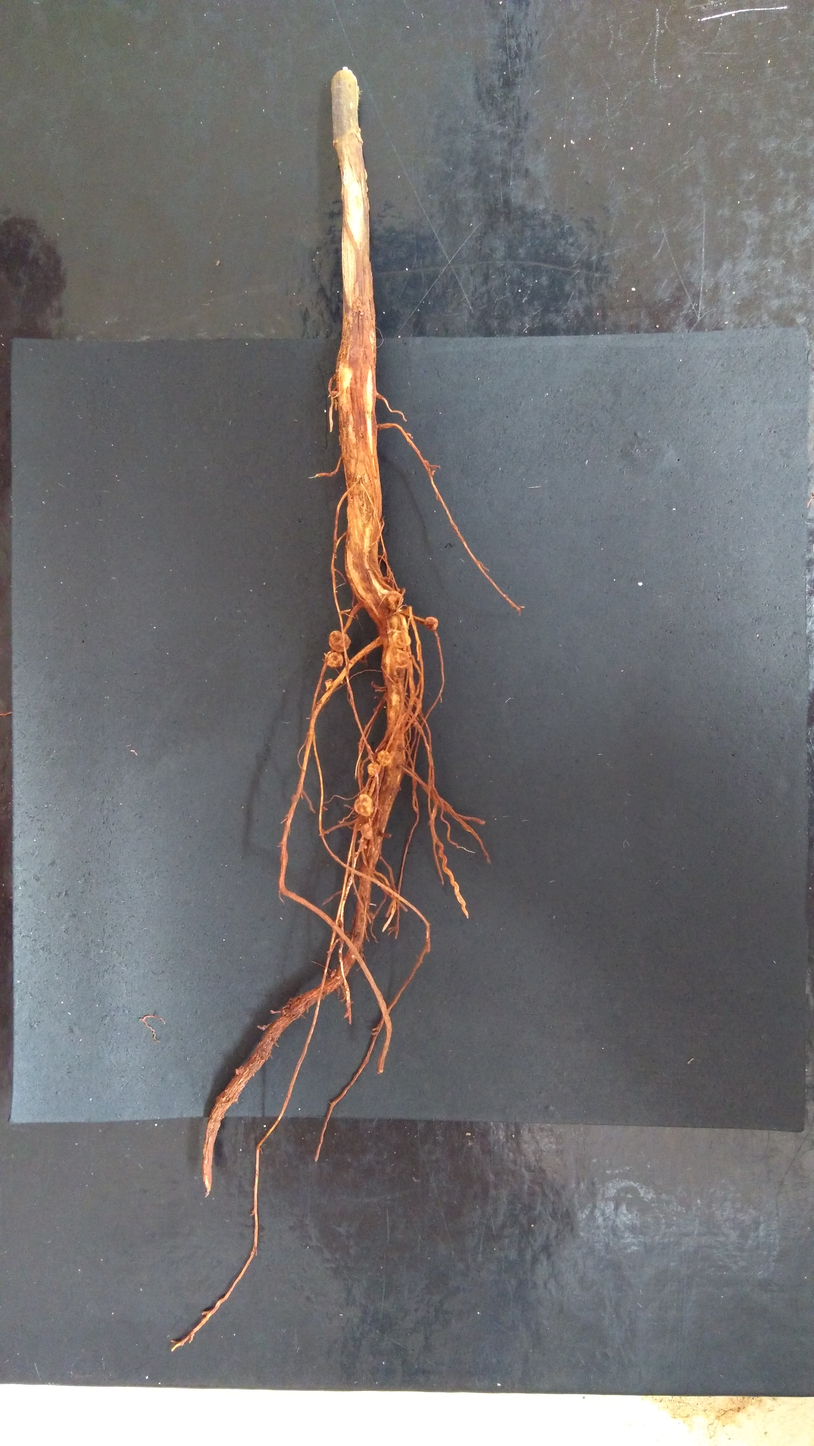nodule: (326, 629, 353, 654), (354, 793, 375, 817), (322, 651, 346, 670), (385, 589, 404, 609), (392, 648, 410, 669), (392, 631, 412, 649), (422, 616, 440, 632), (376, 749, 392, 767), (358, 822, 373, 841), (365, 761, 382, 776), (390, 615, 403, 629), (393, 666, 405, 679), (324, 678, 334, 691)
